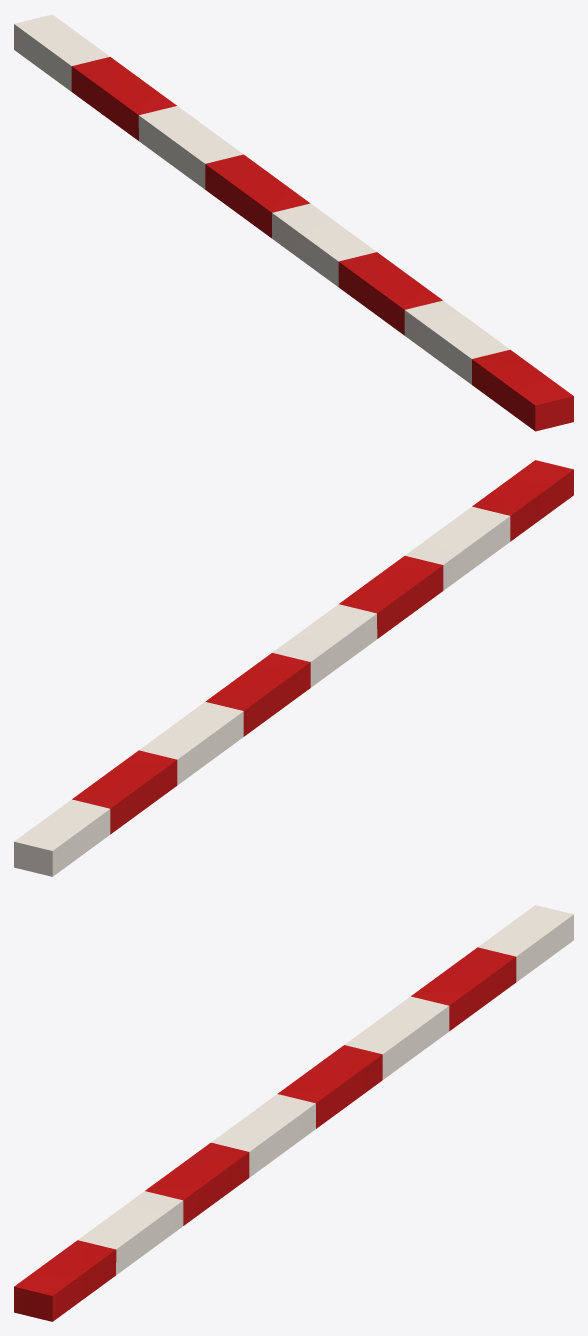
Rendered from military_stopbar.fbx.
The picture shows the model from 3 angles, top to bottom: view 1: azimuth 30°, elevation 25°; view 2: azimuth 150°, elevation 25°; view 3: azimuth 330°, elevation 25°; orthographic projection.
Visible parts, largest first — view 1: military_stopbar; view 2: military_stopbar; view 3: military_stopbar.
Boxes of the visible parts, x1,y1,x2,y2 form: military_stopbar: (14, 14, 573, 431); military_stopbar: (14, 460, 573, 876); military_stopbar: (14, 905, 573, 1321).
Size of the model in its own units: 0.1515 by 0.0972 by 3.55.
